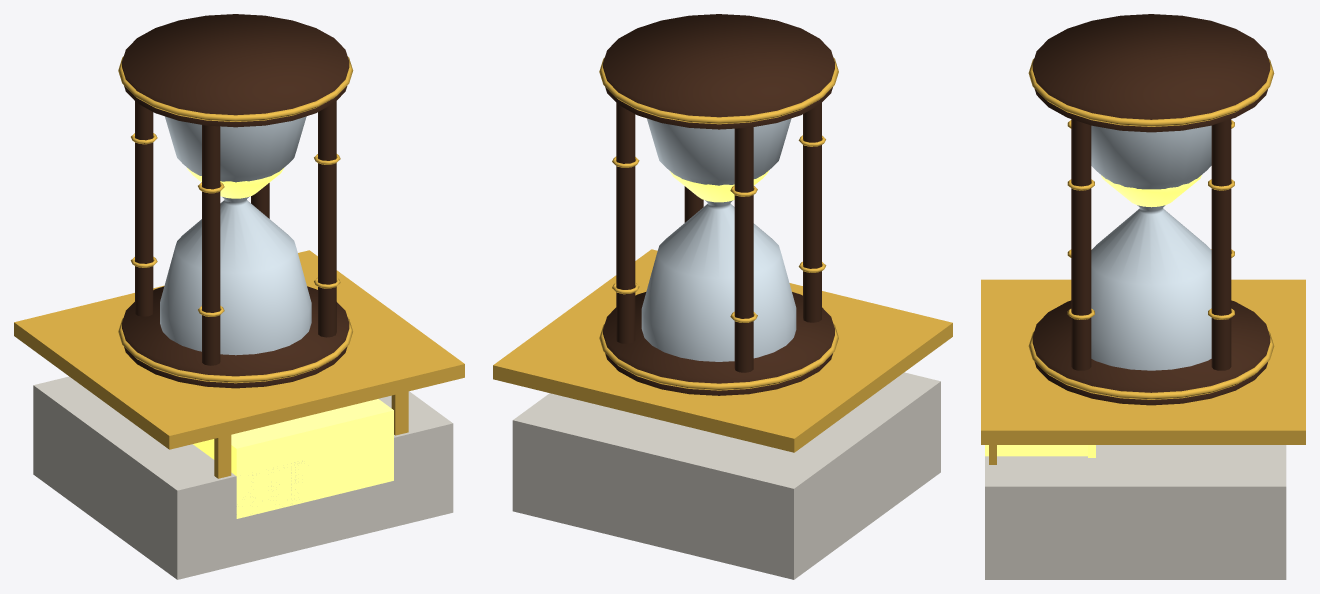
The model's file is HourglassFurnace_Roblox.fbx.
3 views of the same model, side by side, from view 1: azimuth 30°, elevation 25°; view 2: azimuth 150°, elevation 25°; view 3: azimuth 270°, elevation 25° (orthographic). The views are drawn at different scales.
Visible parts, largest first — view 1: DarkWood, PedestalMarble, Gold, HourglassGlass, BurnZone, TimeSand; view 2: PedestalMarble, DarkWood, Gold, HourglassGlass, TimeSand; view 3: DarkWood, PedestalMarble, Gold, HourglassGlass, TimeSand, BurnZone.
Part boxes in pixels (bbox=[...]): DarkWood: bbox=[122, 14, 349, 388]; PedestalMarble: bbox=[33, 376, 453, 579]; Gold: bbox=[14, 56, 464, 478]; HourglassGlass: bbox=[160, 116, 311, 355]; BurnZone: bbox=[193, 399, 393, 518]; TimeSand: bbox=[186, 167, 284, 198]; PedestalMarble: bbox=[512, 372, 940, 579]; DarkWood: bbox=[603, 14, 834, 395]; Gold: bbox=[493, 57, 952, 452]; HourglassGlass: bbox=[641, 118, 796, 361]; TimeSand: bbox=[669, 170, 768, 202]; DarkWood: bbox=[1032, 14, 1270, 405]; PedestalMarble: bbox=[985, 445, 1286, 579]; Gold: bbox=[981, 58, 1305, 464]; HourglassGlass: bbox=[1091, 125, 1211, 370]; TimeSand: bbox=[1101, 175, 1201, 207]; BurnZone: bbox=[985, 445, 1087, 456].
Size of the model in its own units: 900 by 1240 by 820.
